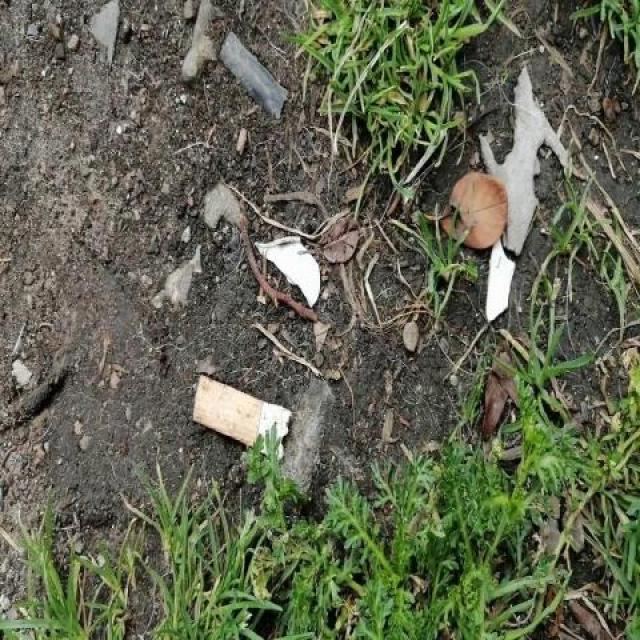non-organic waste: (190, 370, 294, 470)
